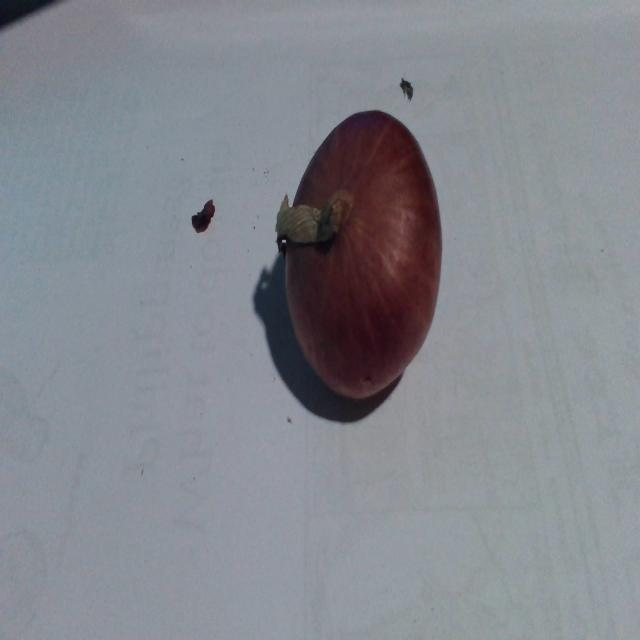onion: (279, 106, 444, 399)
